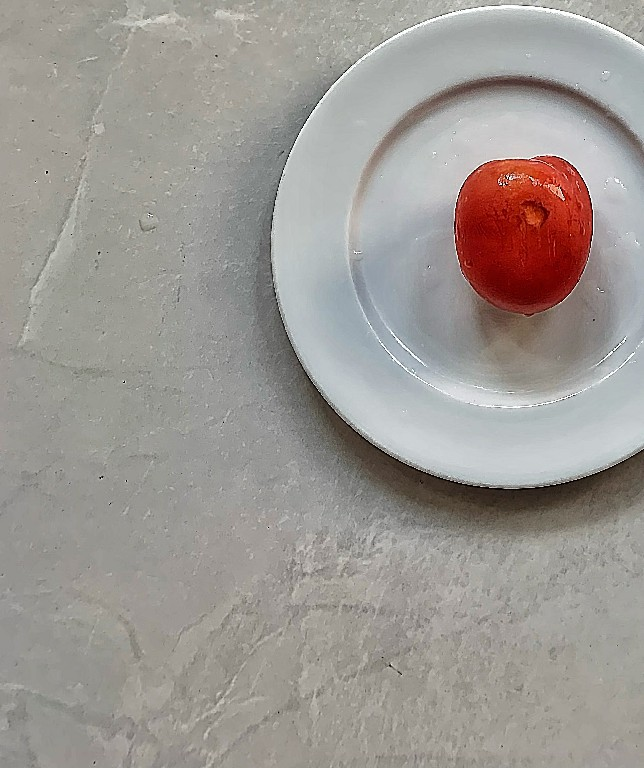NG: (458, 150, 591, 326)
